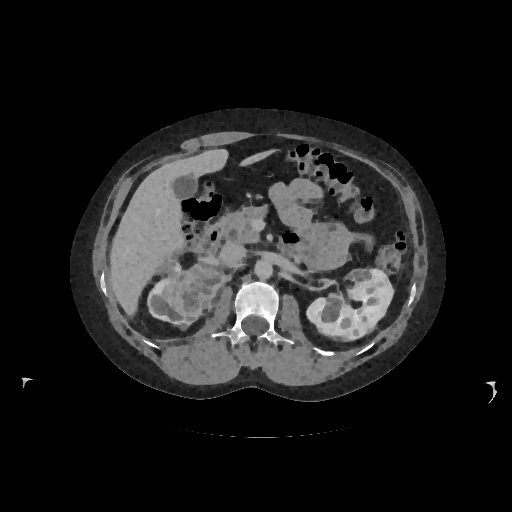Lesion: (319, 293, 343, 328)
